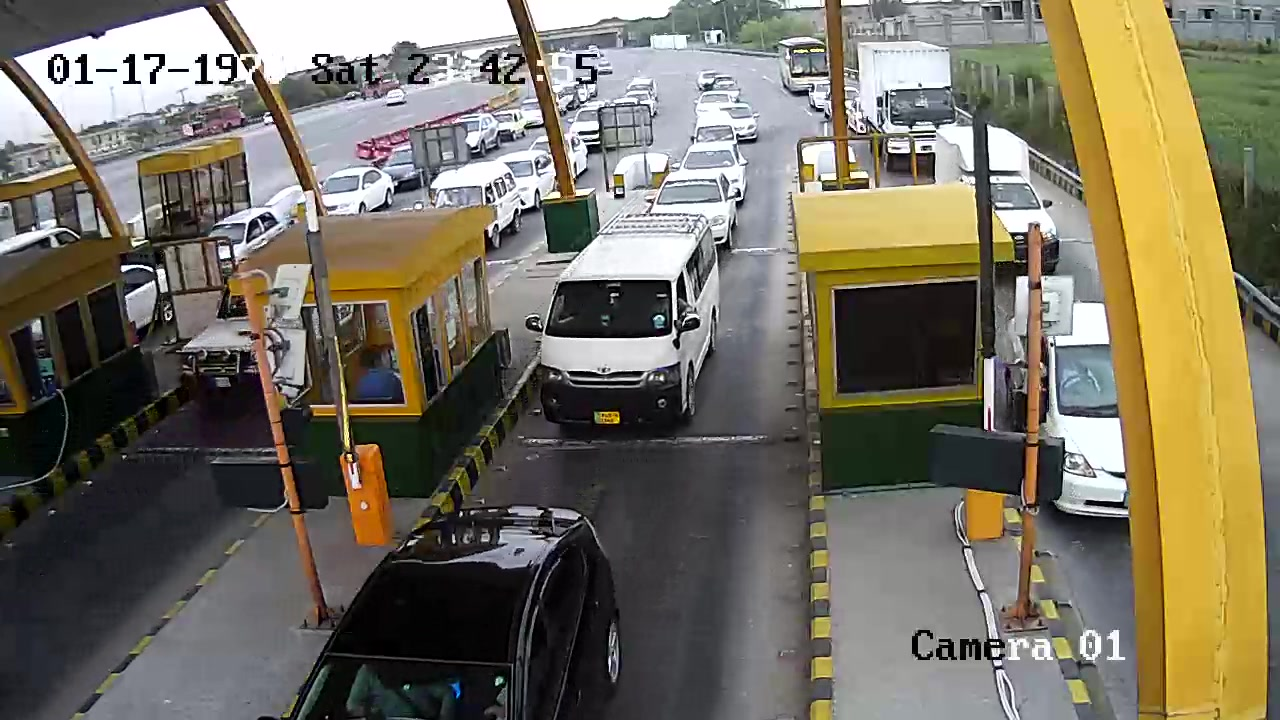F3: (539, 207, 725, 446)
